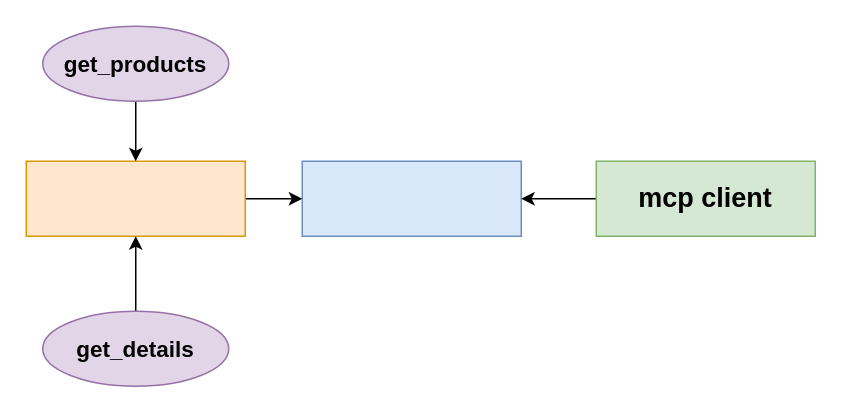
The diagram is 842 pixels wide and 413 high, and some of its shapes have lost their labels. The centre of each missing label's shape, as x and y in pixels:
"MCP" goes at (411,198).
"mcp server" goes at (135,198).
